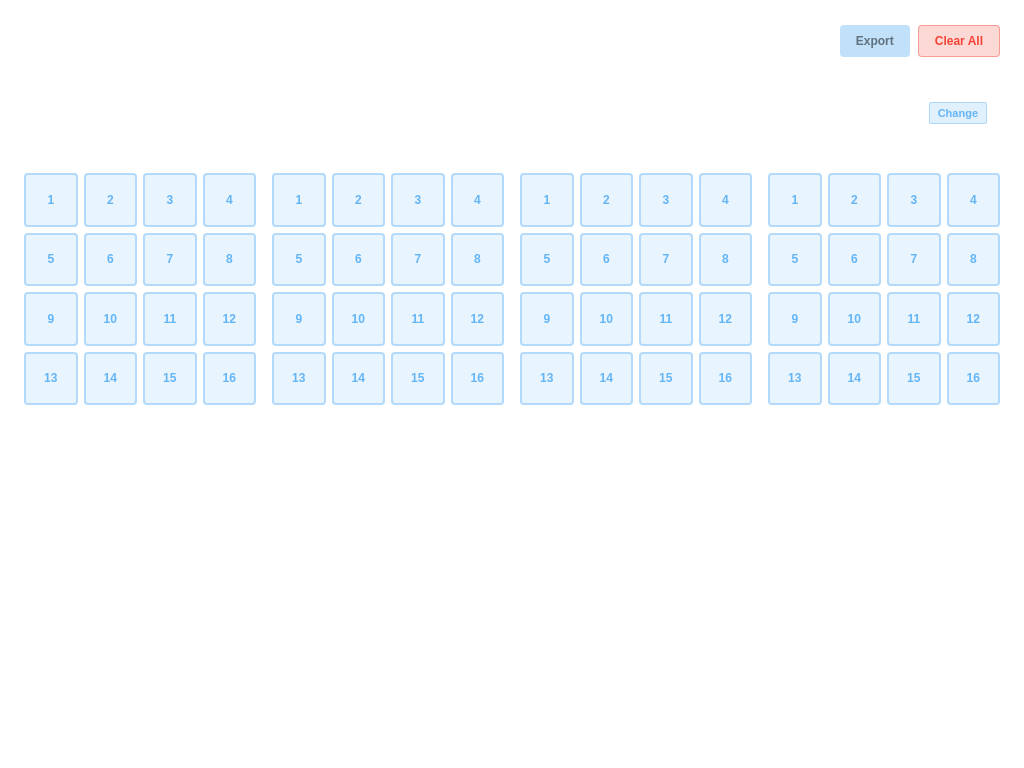
Scenario: KoalaKitBuilder Component › Pad Interactions › clearing a pad removes assignment
Assign a sample
Click the button with test id "pad-A-1". click: [51, 200]
box: [24,173,78,226]
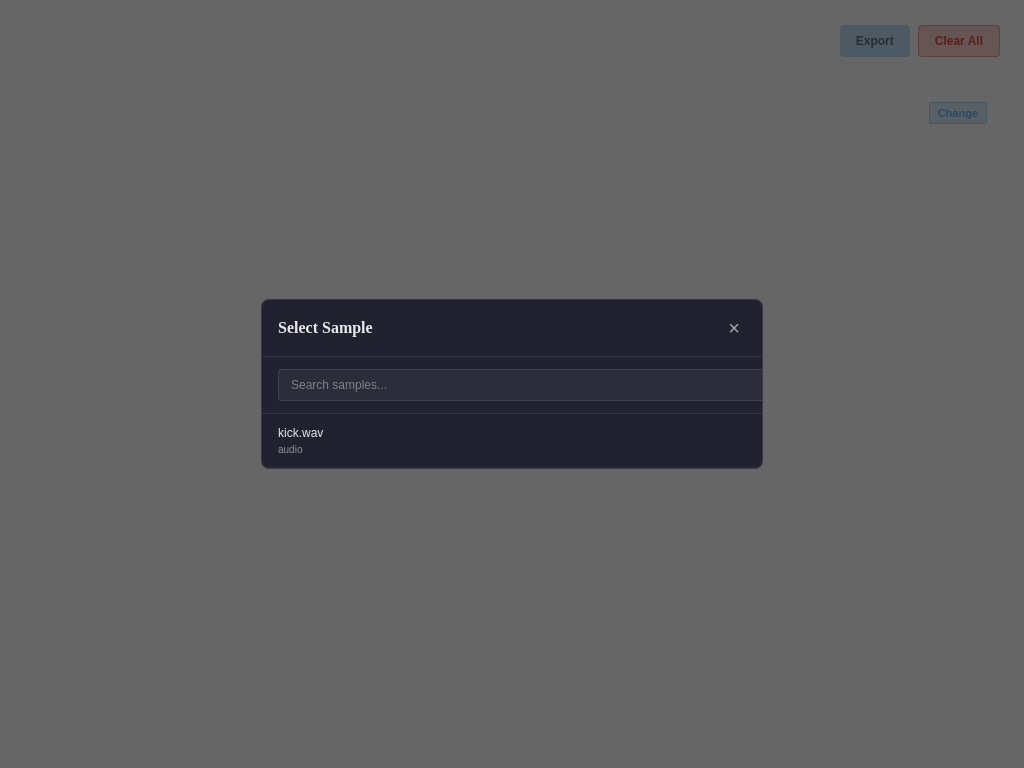
Click the button with class "sample-item". click: [301, 433]
box: [262,414,762,468]
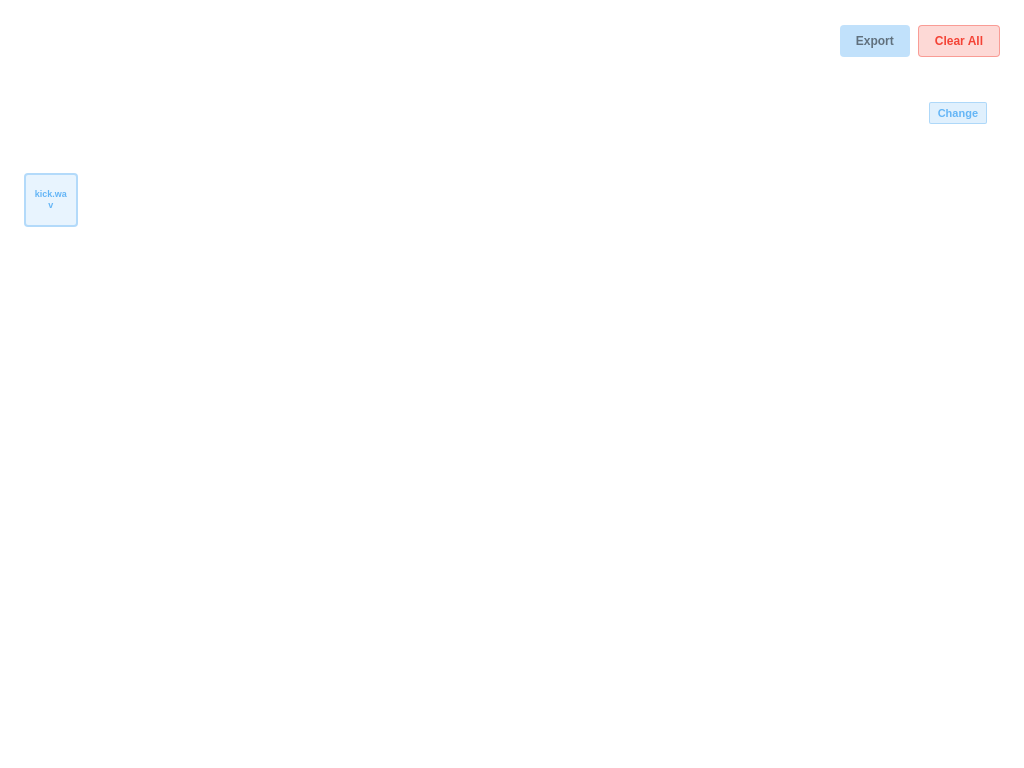
Expected: the button with test id "pad-A-1" reads "kick.wav"
Click the button with test id "pad-A-1". click: [51, 200]
box: [24,173,78,226]
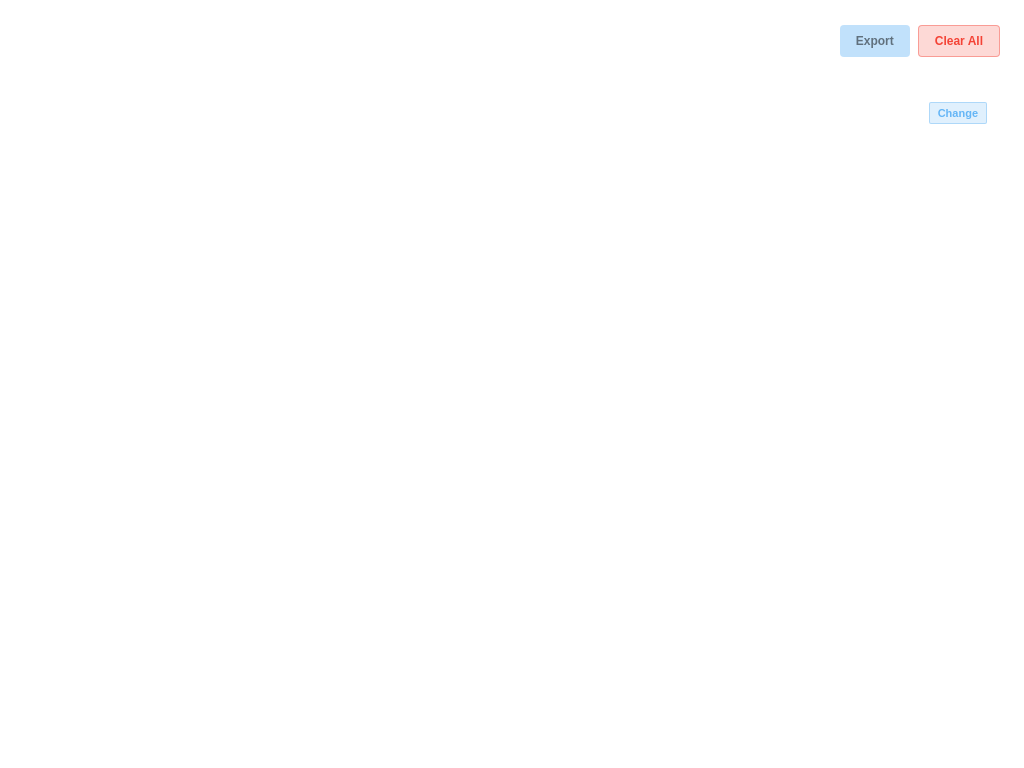
Expected: the text with test id "pad-A-1" no longer shows "kick.wav"
